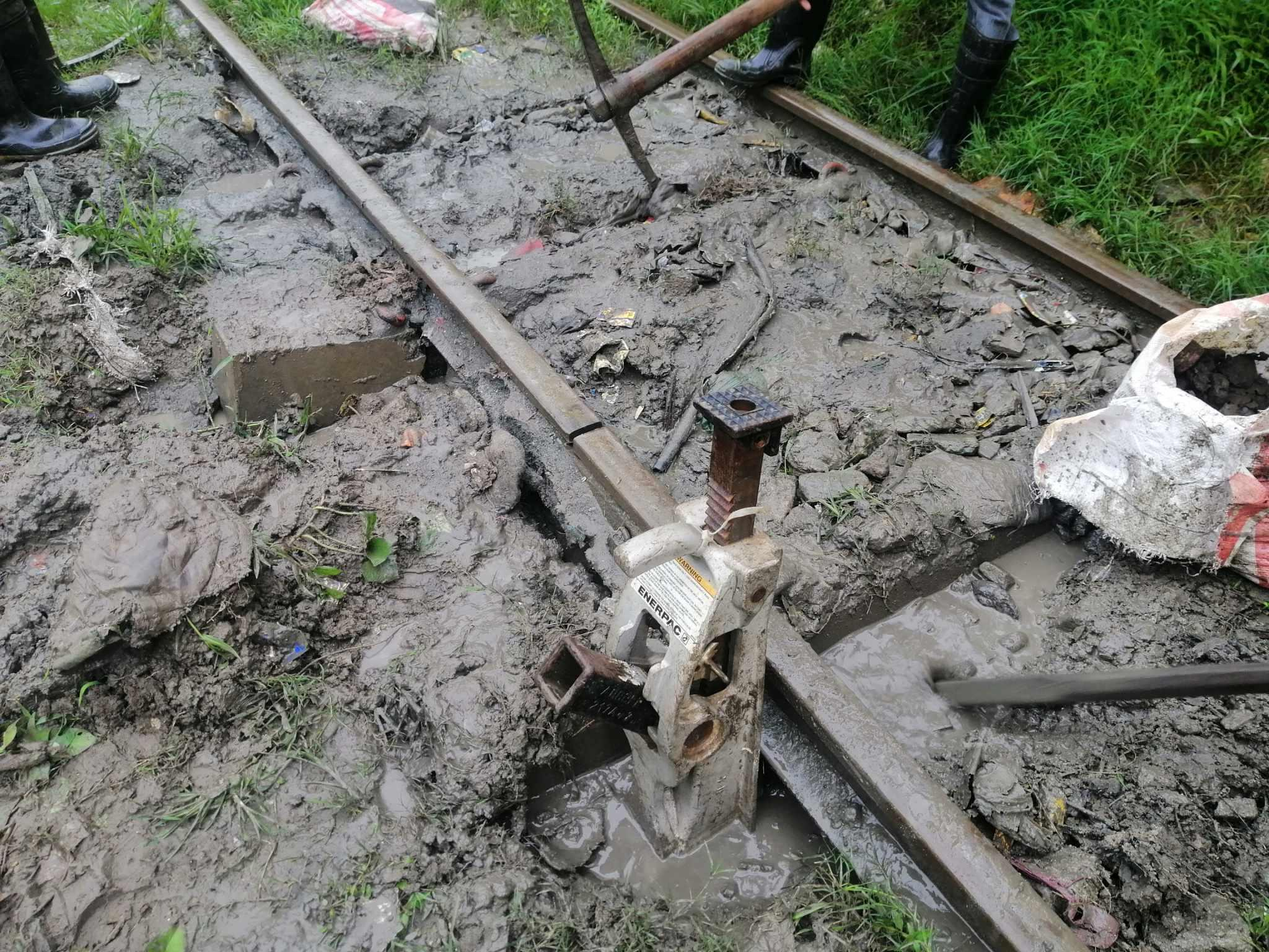railway-gap: (541, 387, 630, 475)
